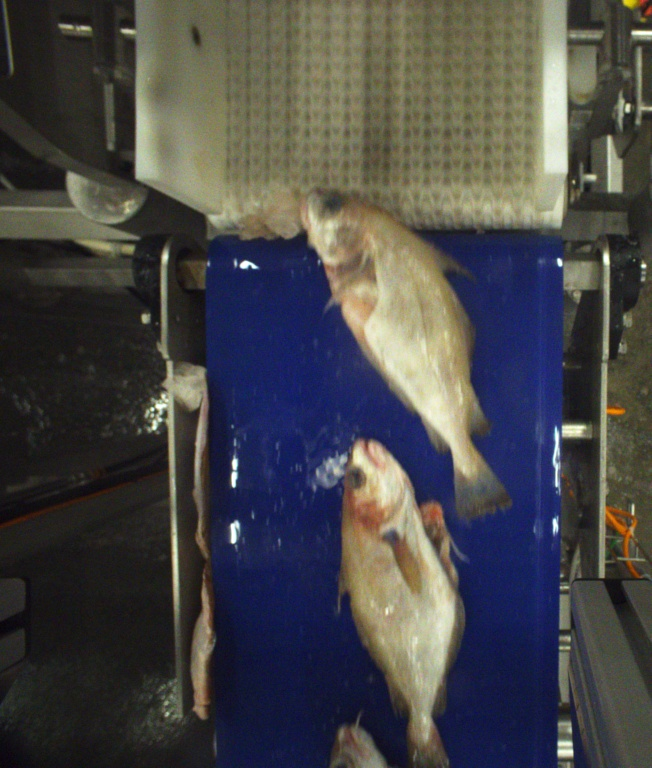BIB: (329, 712, 389, 768)
